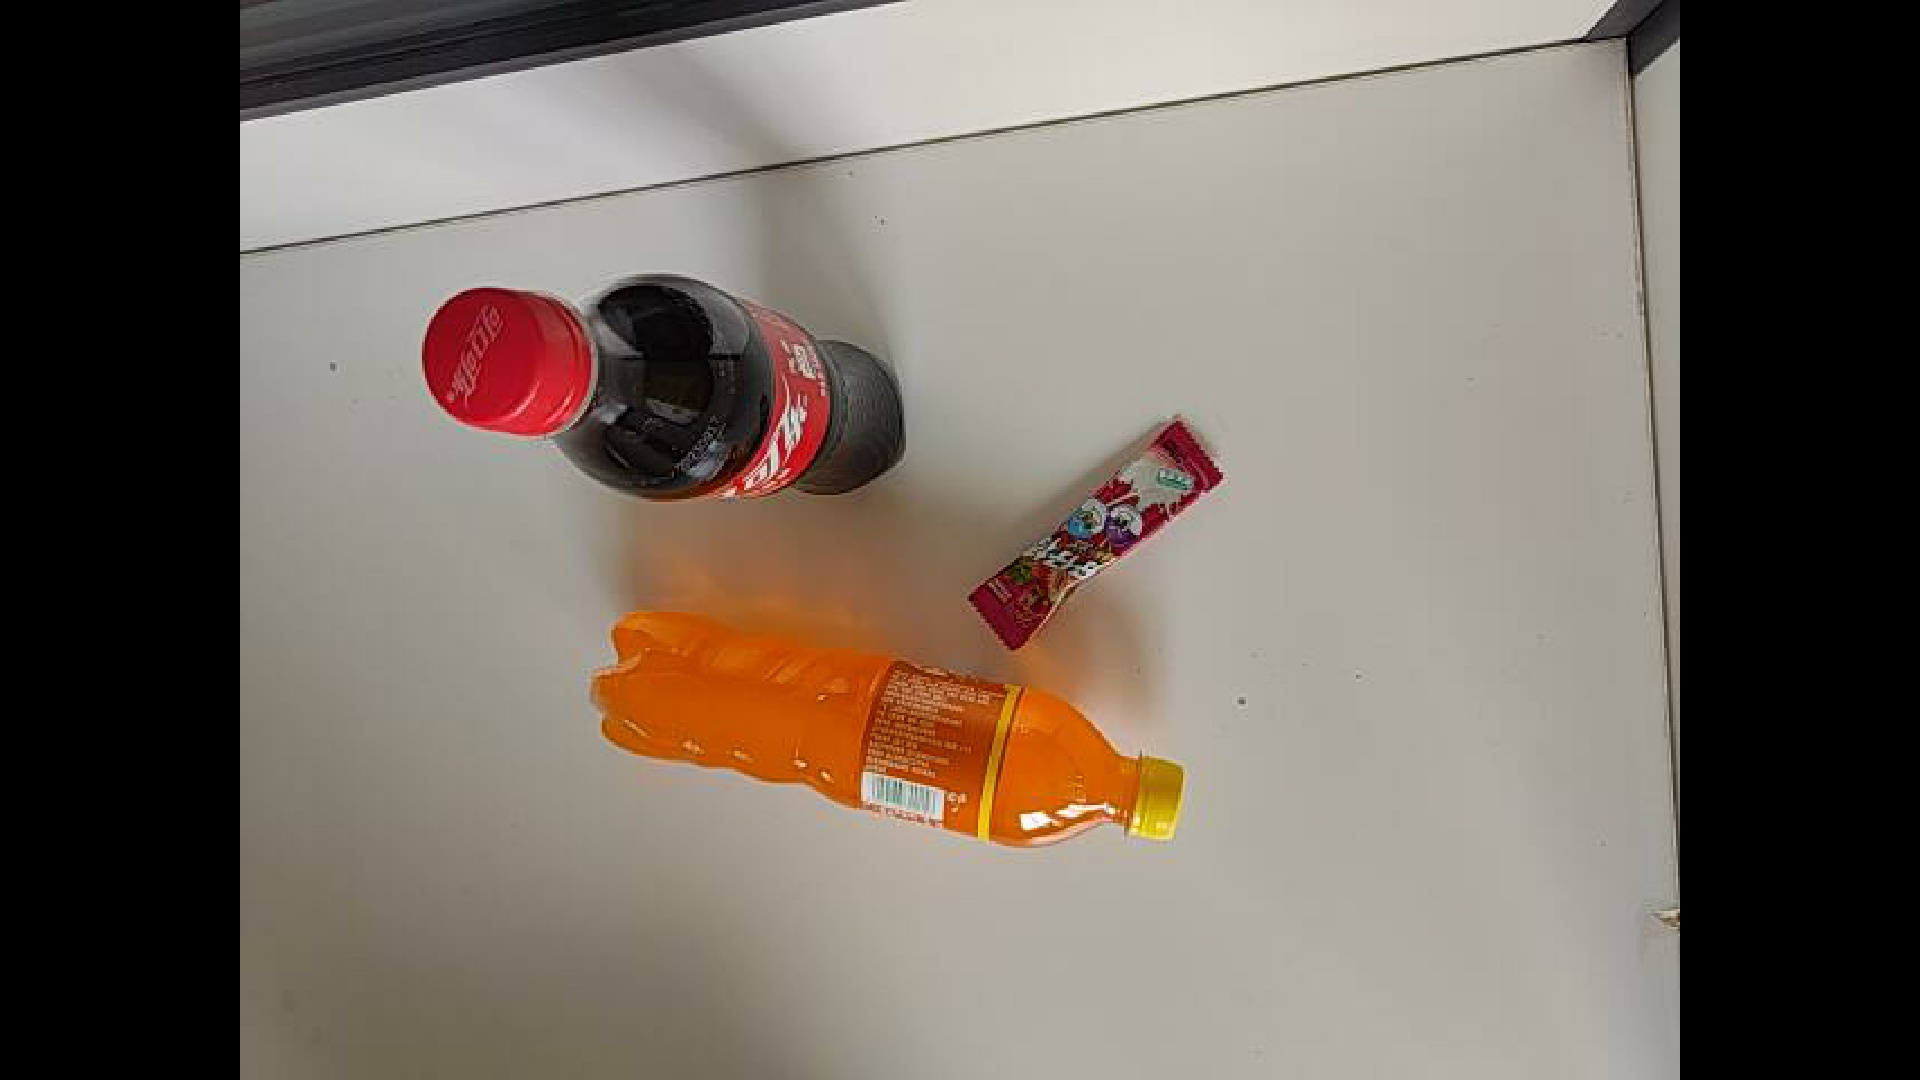cola: (419, 272, 909, 504)
fenta: (545, 589, 1204, 827)
sugar: (961, 495, 1274, 662)
